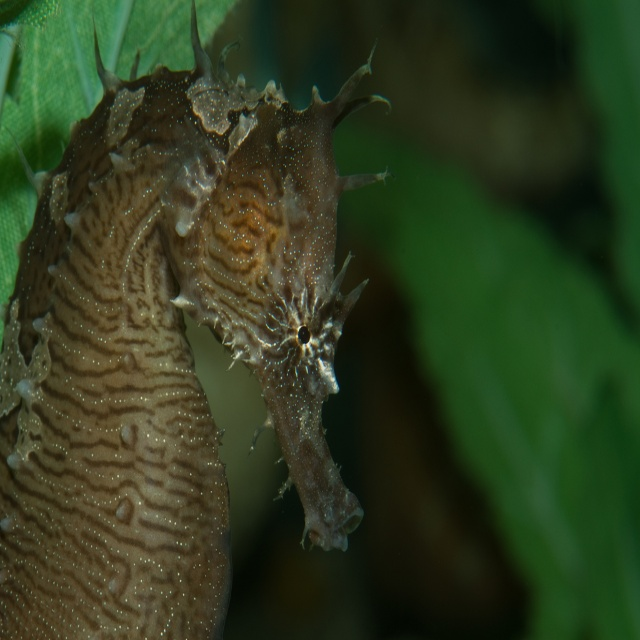Seahorse: (0, 0, 397, 639)
